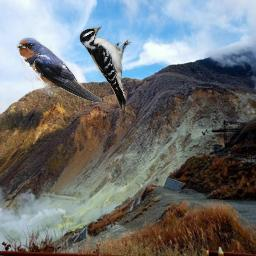Swallow: (16, 37, 102, 103)
Woodpecker: (79, 26, 132, 110)
